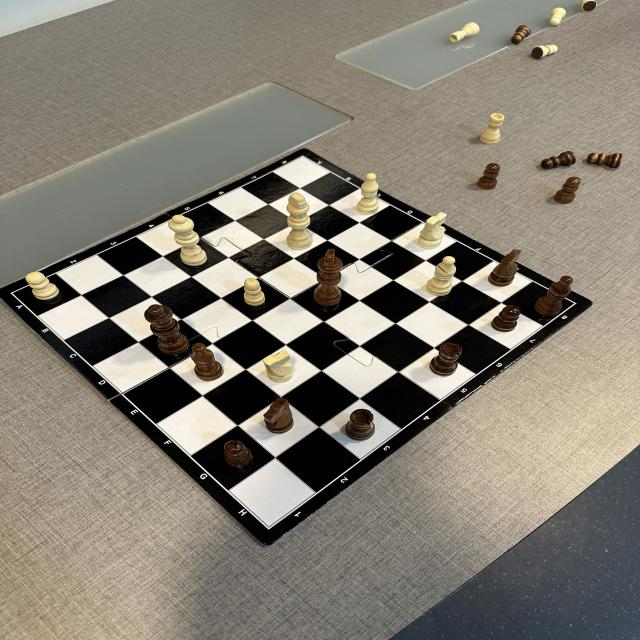Black-Bishop: (534, 275, 573, 317), (190, 343, 224, 381)
Black-King: (314, 249, 344, 306)
Black-Knight: (488, 249, 522, 287), (263, 397, 294, 434)
Black-Pawn: (224, 439, 254, 468), (491, 306, 522, 332), (554, 177, 581, 204), (540, 151, 577, 170), (477, 163, 501, 190), (586, 152, 624, 169), (511, 25, 532, 44)
Black-Queen: (144, 304, 190, 355)
Black-Rook: (429, 342, 463, 377), (345, 408, 375, 441)
White-Bishop: (425, 256, 457, 296), (356, 172, 380, 215)
White-King: (286, 192, 313, 250)
White-Knight: (417, 212, 448, 249), (262, 349, 294, 383)
White-Pawn: (25, 272, 60, 300), (243, 278, 266, 306), (531, 44, 558, 60), (550, 7, 566, 26)
White-Queen: (168, 214, 208, 266)
White-Rook: (479, 113, 505, 144), (449, 22, 480, 42)
